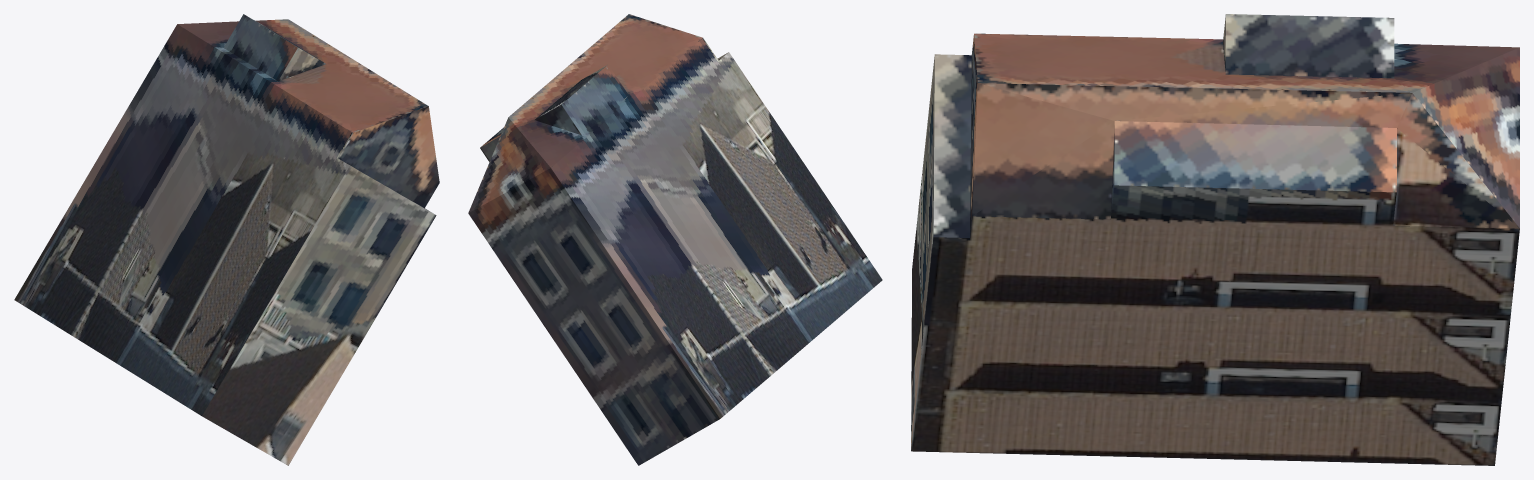
The picture shows the model from 3 angles, left to right: view 1: azimuth 30°, elevation 25°; view 2: azimuth 150°, elevation 25°; view 3: azimuth 270°, elevation 25°; orthographic projection. The views are drawn at different scales.
Parts seen in each view (by area): view 1: BAG_0599100000688753 (×7); view 2: BAG_0599100000688753 (×6); view 3: BAG_0599100000688753 (×6).
Part boxes in pixels (bbox=[...]): BAG_0599100000688753 (×7): bbox=[14, 14, 439, 465]; BAG_0599100000688753 (×6): bbox=[468, 14, 882, 465]; BAG_0599100000688753 (×6): bbox=[911, 14, 1519, 465].
Size of the model in its own units: 11.64 by 12.93 by 13.14.
Materials: 6 (6 with a texture image).
